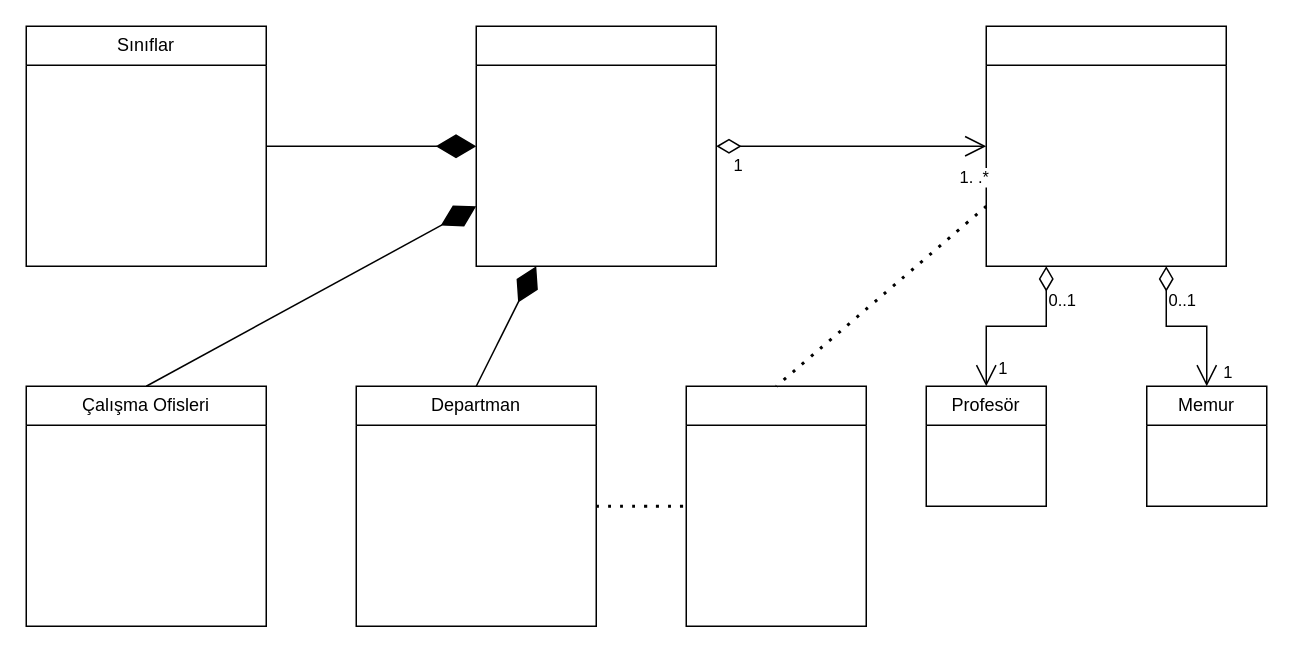
Some shapes in this 1293 by 653 pixel diagram are drawn without their labels. Here are the shapes that lost their labels. From the top down, the box of each, then its label:
(475, 25, 716, 266): Universite
(985, 25, 1226, 266): Çalışanlar
(685, 385, 866, 626): Ofisler
